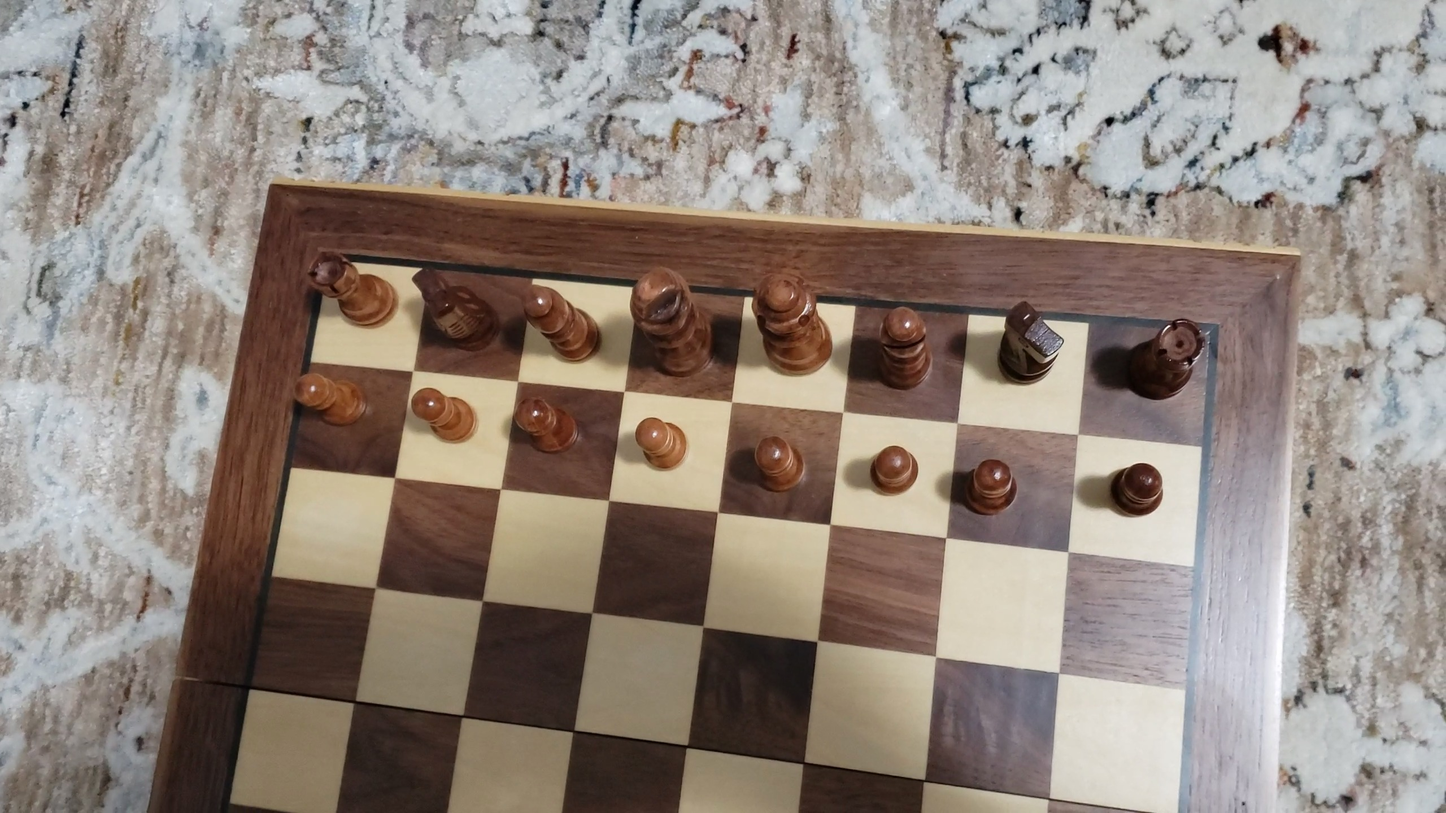black-bishop: (522, 281, 599, 363), (875, 303, 931, 391)
black-king: (626, 259, 716, 380)
black-knight: (410, 265, 501, 353), (994, 296, 1065, 385)
black-pawn: (293, 370, 367, 427), (408, 384, 477, 445), (512, 395, 578, 454), (961, 456, 1021, 518), (750, 431, 808, 495), (1108, 460, 1168, 519), (633, 414, 688, 472), (868, 442, 921, 497)
black-queen: (750, 265, 837, 377)
black-rook: (1122, 317, 1209, 402), (307, 248, 397, 327)
